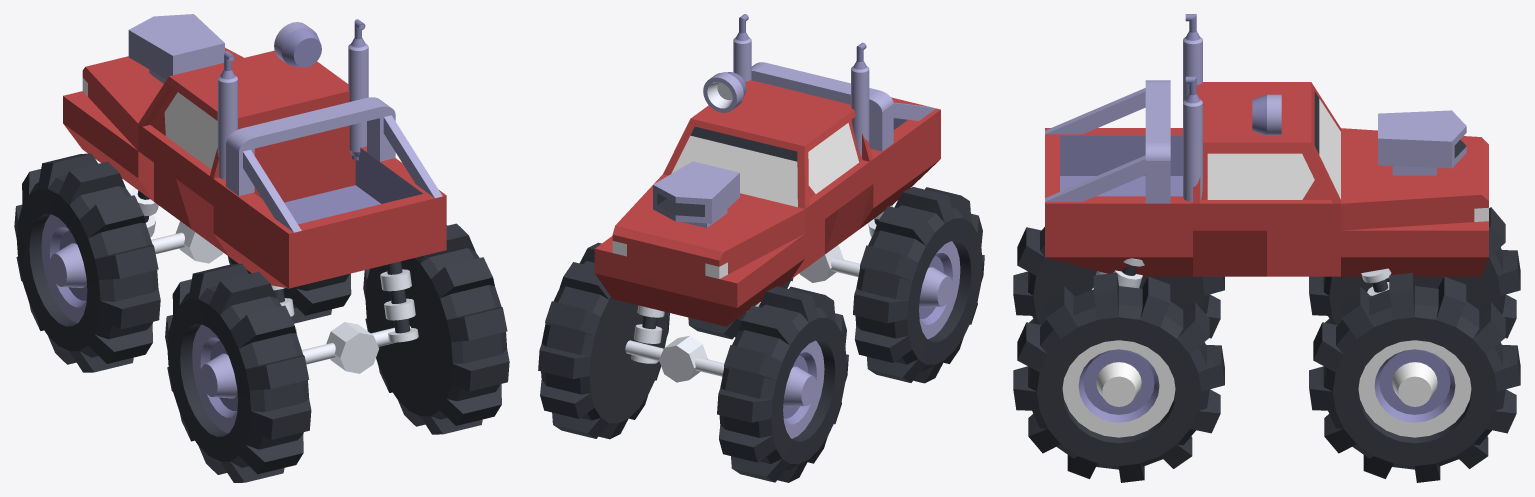
The model's file is asset.glb.
3 renders of one model, left to right at view 1: azimuth 30°, elevation 25°; view 2: azimuth 150°, elevation 25°; view 3: azimuth 270°, elevation 25°, orthographic. The views are drawn at different scales.
Parts seen in each view (by area): view 1: mergedBlocks(Clone); view 2: mergedBlocks(Clone); view 3: mergedBlocks(Clone).
Part boxes in pixels (bbox=[...]): mergedBlocks(Clone): bbox=[14, 14, 509, 482]; mergedBlocks(Clone): bbox=[538, 14, 984, 482]; mergedBlocks(Clone): bbox=[1013, 14, 1520, 482].
Size of the model in its own units: 1.97 by 2.82 by 3.43.
